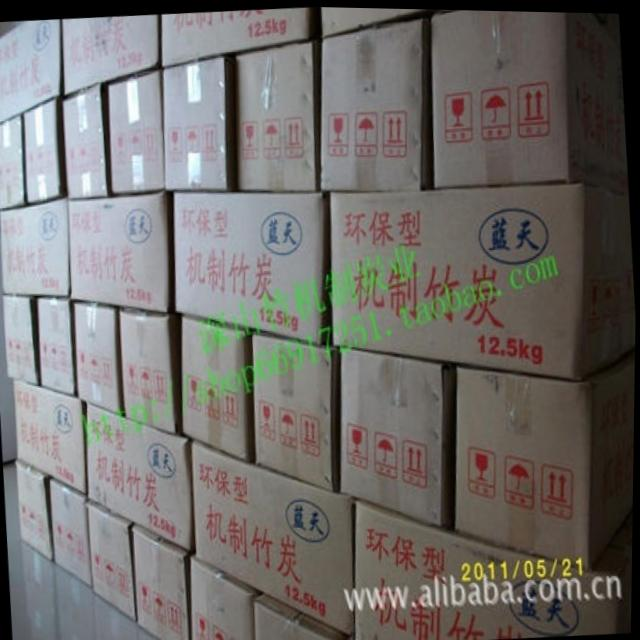box: (329, 178, 636, 379), (342, 495, 634, 640), (455, 344, 636, 567), (430, 8, 628, 190), (193, 437, 356, 633), (173, 190, 331, 343), (339, 346, 458, 529), (320, 9, 434, 188), (87, 402, 196, 552), (254, 330, 341, 489), (233, 36, 321, 189), (65, 189, 176, 310), (178, 311, 256, 461), (161, 52, 236, 191), (160, 5, 319, 66), (14, 380, 88, 494), (59, 13, 161, 95), (119, 304, 183, 433), (103, 66, 166, 194), (135, 521, 195, 640), (0, 198, 71, 295), (0, 18, 64, 123), (71, 297, 125, 415), (191, 553, 264, 640), (89, 496, 139, 621), (64, 83, 112, 199), (23, 97, 67, 205), (254, 591, 348, 640), (52, 477, 94, 584), (19, 457, 56, 561), (39, 295, 77, 395), (318, 6, 436, 36), (3, 295, 40, 385), (0, 114, 26, 209)
